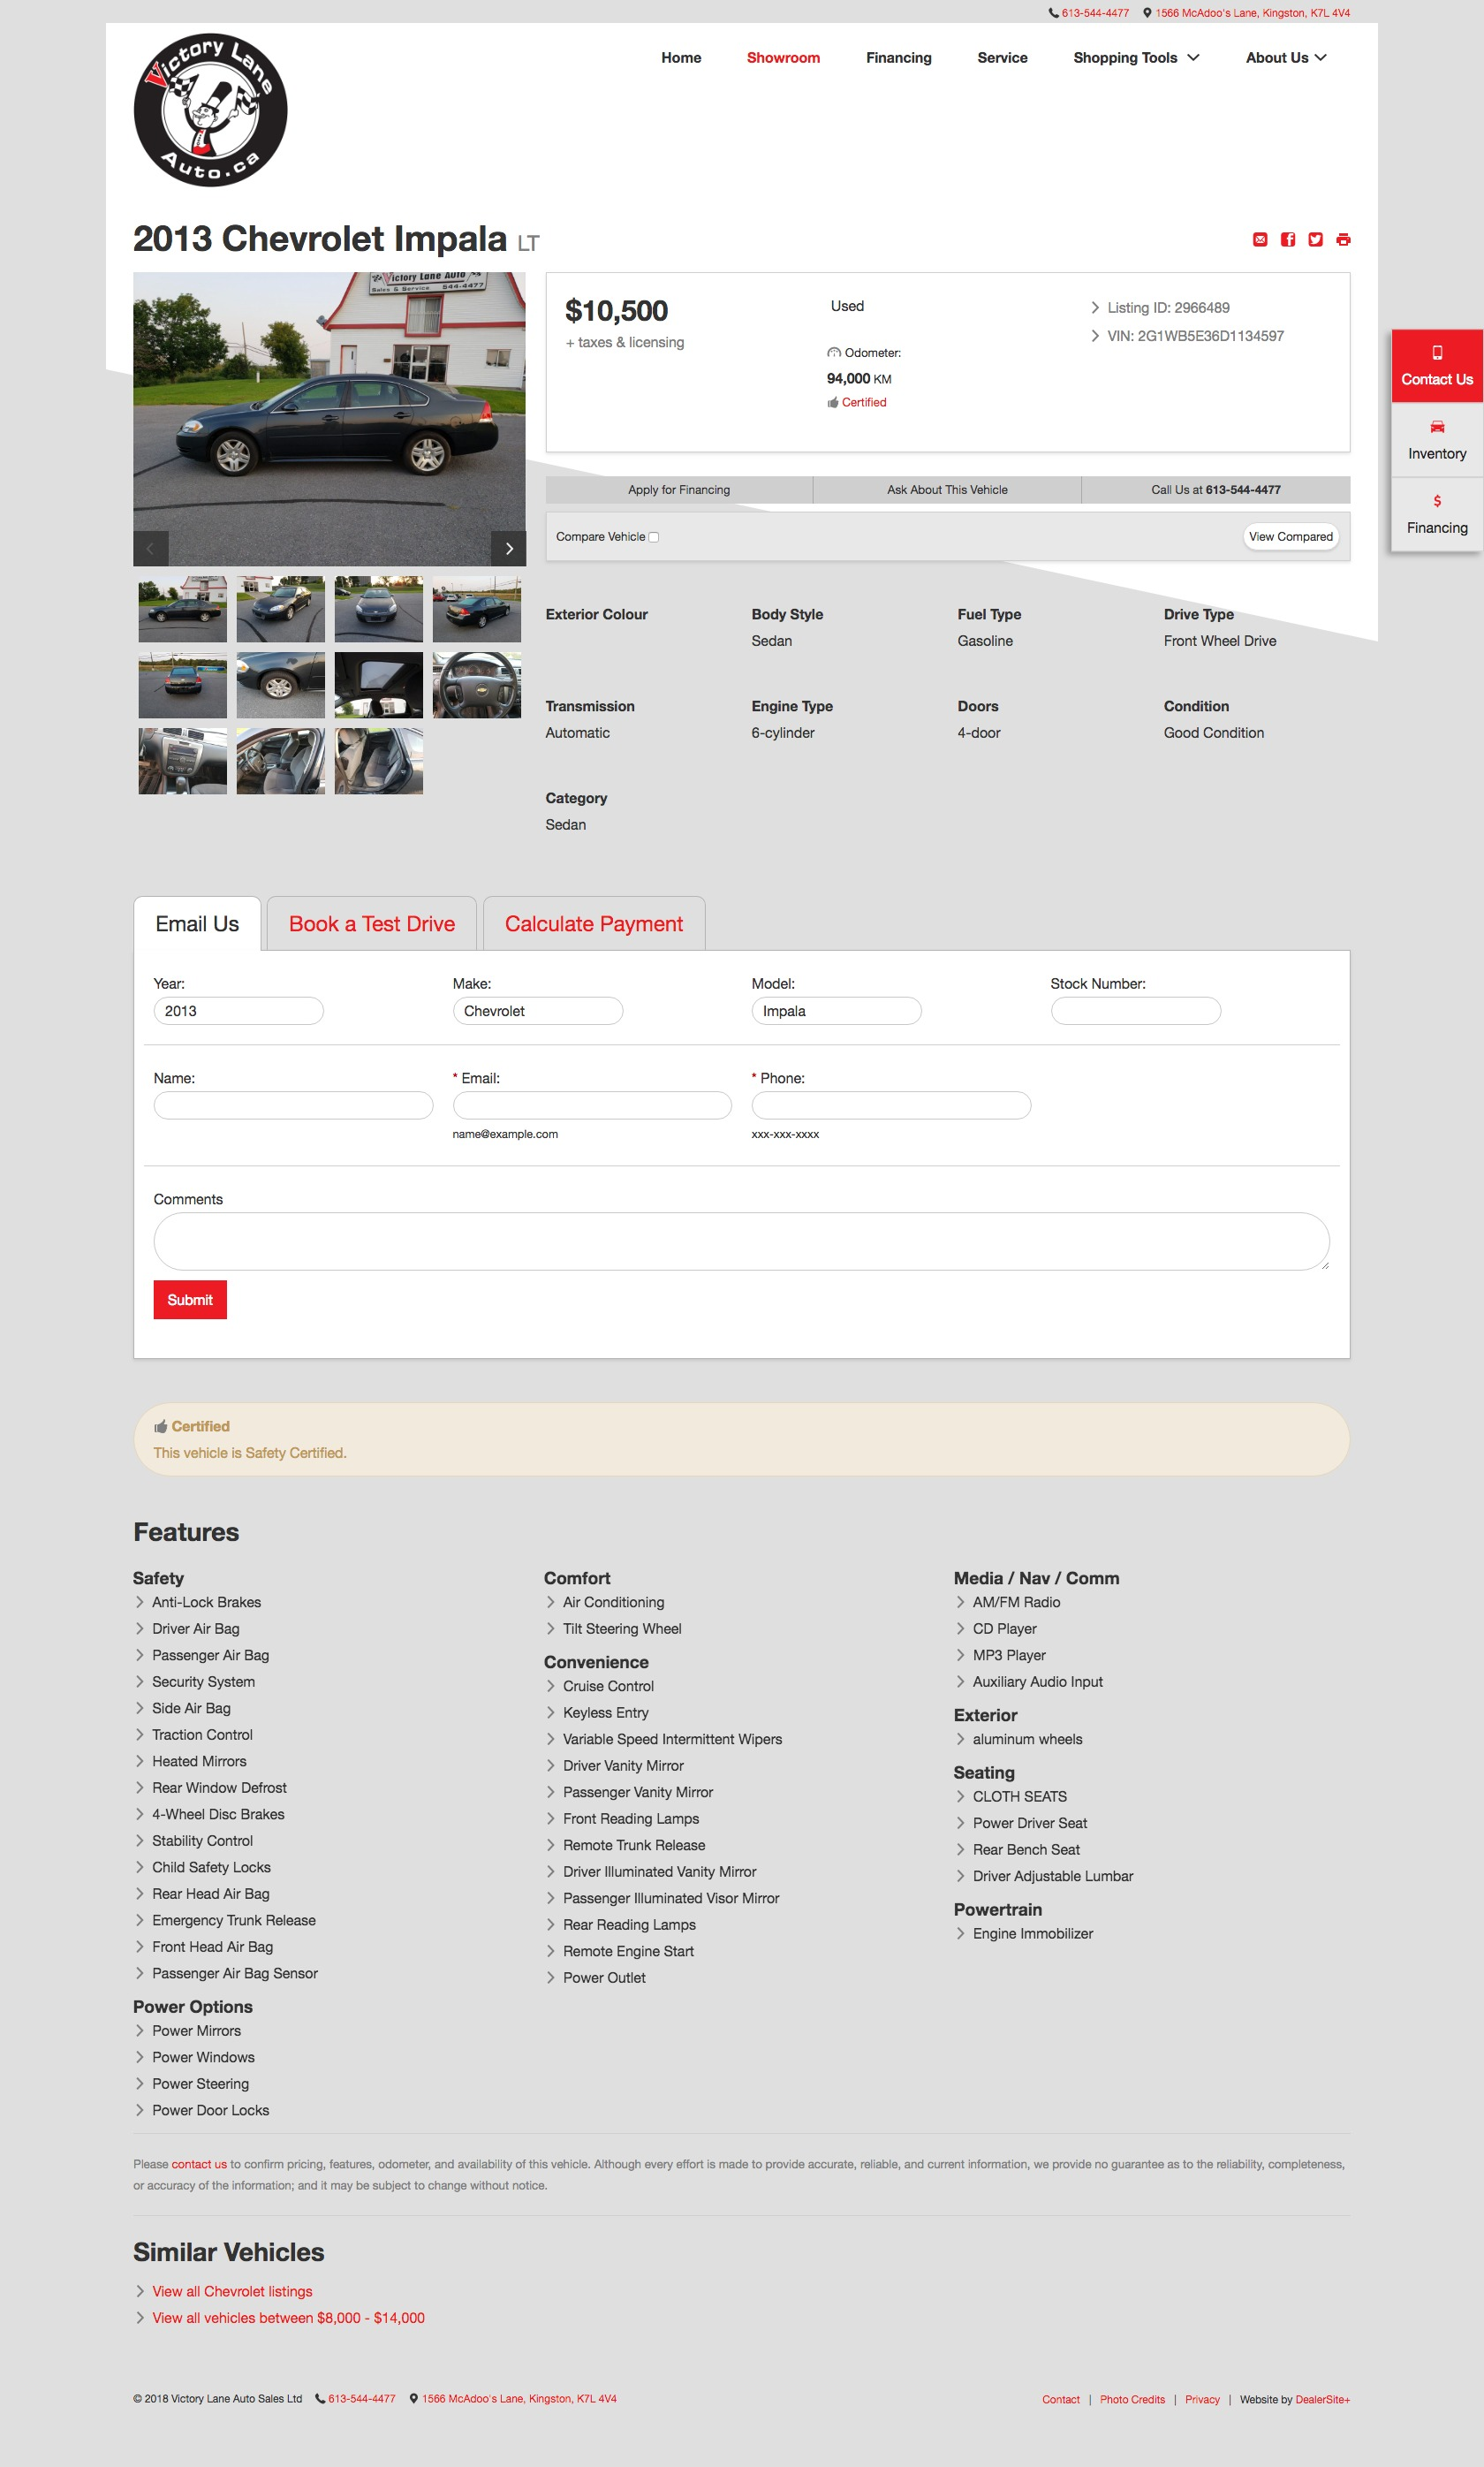car: (490, 530, 529, 567)
